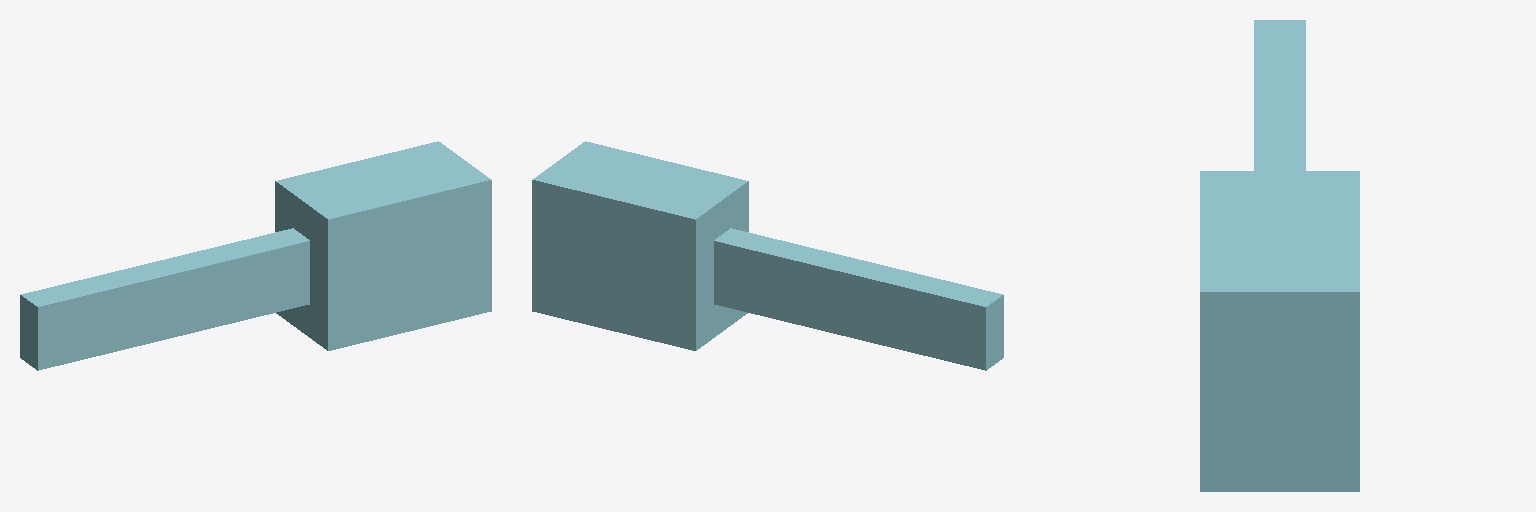
robot.urdf — cuboid_brush_v8006:
<?xml version="1.0"?>
<robot name="cuboid_brush_v8006">

  <link name="cuboid_brush_v8006">
    <!-- Handle -->
    <visual>
      <origin xyz="0 0 0" rpy="0 0 0"/>
      <geometry>
        <box size="0.10767565669848922 0.011815853524796084 0.023963794512198267"/>
      </geometry>
      <material name="material">
        <color rgba="0.639 0.847 0.882 1.0"/>
      </material>
    </visual>
    <collision>
      <origin xyz="0 0 0" rpy="0 0 0"/>
      <geometry>
        <box size="0.10767565669848922 0.011815853524796084 0.023963794512198267"/>
      </geometry>
    </collision>

    <!-- Head -->
    <visual>
      <origin xyz="0.08608354730261303 0 0" rpy="0 0 0"/>
      <geometry>
        <box size="0.06449143790673684 0.03604143137567277 0.04970628885890488"/>
      </geometry>
      <material name="material">
        <color rgba="0.639 0.847 0.882 1.0"/>
      </material>
    </visual>
    <collision>
      <origin xyz="0.08608354730261303 0 0" rpy="0 0 0"/>
      <geometry>
        <box size="0.06449143790673684 0.03604143137567277 0.04970628885890488"/>
      </geometry>
    </collision>

    <inertial>
      <density value="400.0"/>
    </inertial>
  </link>

</robot>

--- Facts derived from the render (not from the file) ---
The picture shows the robot from 3 angles, left to right: view 1: azimuth 30°, elevation 25°; view 2: azimuth 150°, elevation 25°; view 3: azimuth 270°, elevation 25°; orthographic projection.
Model cuboid_brush_v8006 with 1 links and 0 joints (none), rooted at cuboid_brush_v8006, posed all joints at 0.
Links seen in each view (by area): view 1: cuboid_brush_v8006; view 2: cuboid_brush_v8006; view 3: cuboid_brush_v8006.
Link boxes in pixels (bbox=[...]): cuboid_brush_v8006: bbox=[20, 141, 491, 370]; cuboid_brush_v8006: bbox=[532, 141, 1003, 370]; cuboid_brush_v8006: bbox=[1200, 20, 1359, 491].
Size in the robot's own frame: 0.1722 by 0.036 by 0.0497 metres.
Geometry: primitives only (box / cylinder / sphere), no mesh files.
